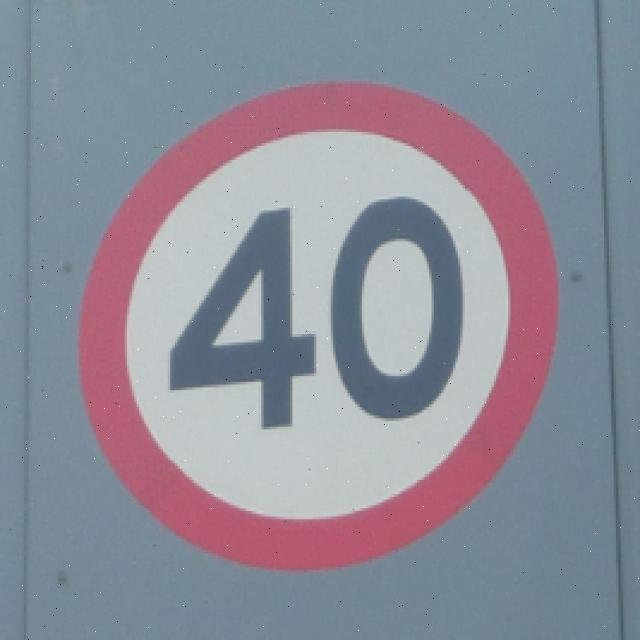speed limit 40: (83, 77, 562, 576)
